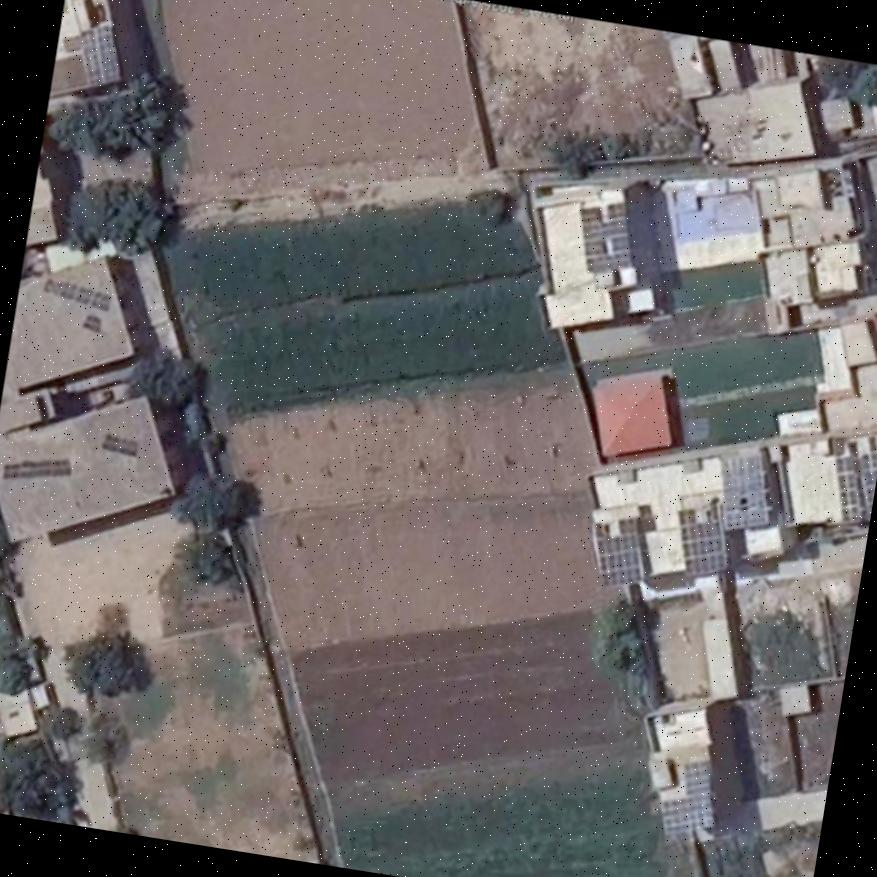Solarpanel: (651, 761, 714, 833), (578, 206, 630, 272), (680, 504, 725, 575), (592, 518, 637, 584), (79, 22, 117, 84), (41, 279, 92, 306), (1, 461, 70, 479), (100, 433, 140, 459), (83, 316, 100, 333), (92, 294, 108, 311)
